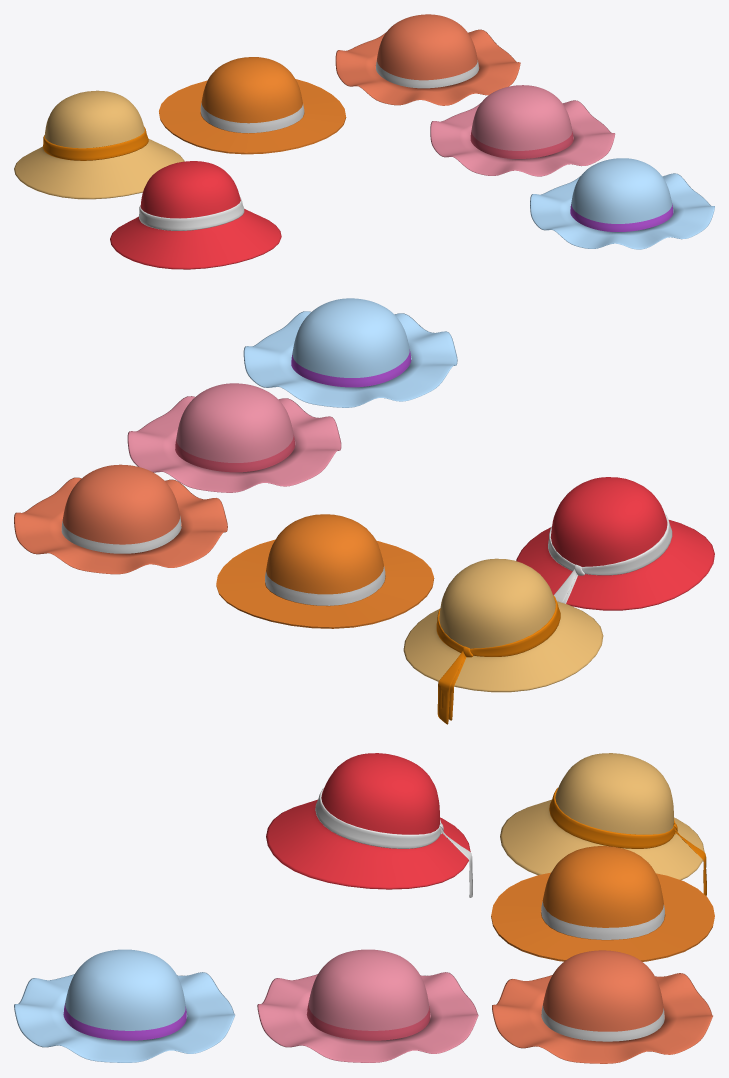
Rendered from hatsfixd.fbx.
3 views of the same model, one above another, from view 1: azimuth 30°, elevation 25°; view 2: azimuth 150°, elevation 25°; view 3: azimuth 270°, elevation 25° (orthographic). The views are drawn at different scales.
Parts seen in each view (by area): view 1: HAT2, HAT1V1, HAT1, HAT4V2, HAT4V1, HAT4; view 2: HAT1, HAT1V1, HAT2, HAT4, HAT4V2, HAT4V1; view 3: HAT1V1, HAT2, HAT4V2, HAT4V1, HAT4, HAT1.
Boxes of the visible parts, x1,y1,x2,y2 form: HAT2: (159, 57, 346, 154); HAT1V1: (110, 161, 281, 269); HAT1: (14, 90, 184, 199); HAT4V2: (530, 158, 714, 249); HAT4V1: (430, 85, 615, 176); HAT4: (335, 14, 520, 105); HAT1: (403, 558, 603, 724); HAT1V1: (516, 477, 714, 610); HAT2: (216, 514, 434, 628); HAT4: (14, 464, 227, 574); HAT4V2: (243, 298, 457, 407); HAT4V1: (127, 383, 341, 492); HAT1V1: (266, 753, 472, 897); HAT2: (491, 846, 714, 961); HAT4V2: (14, 949, 235, 1062); HAT4V1: (257, 949, 478, 1062); HAT4: (492, 950, 712, 1063); HAT1: (500, 753, 706, 895).
Size of the model in its own units: 1231 by 267 by 1281.
